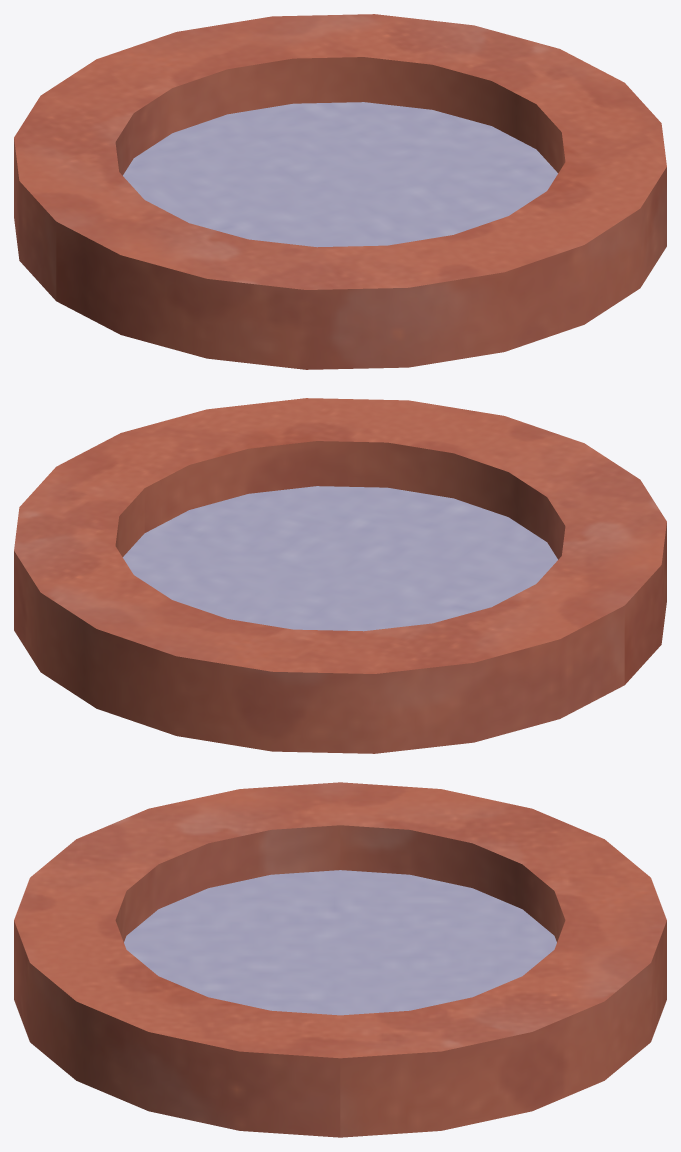
Rendered from SM_Miror.fbx.
3 renders of one model, top to bottom at view 1: azimuth 30°, elevation 25°; view 2: azimuth 150°, elevation 25°; view 3: azimuth 270°, elevation 25°, orthographic.
Visible parts, largest first — view 1: SM_Miror; view 2: SM_Miror; view 3: SM_Miror.
Part boxes in pixels (<box>): SM_Miror: <box>14,14,666,369</box>; SM_Miror: <box>14,398,666,753</box>; SM_Miror: <box>14,782,666,1137</box>.
Bounding box in the file's own units: 98.81 × 13.25 × 98.81.
